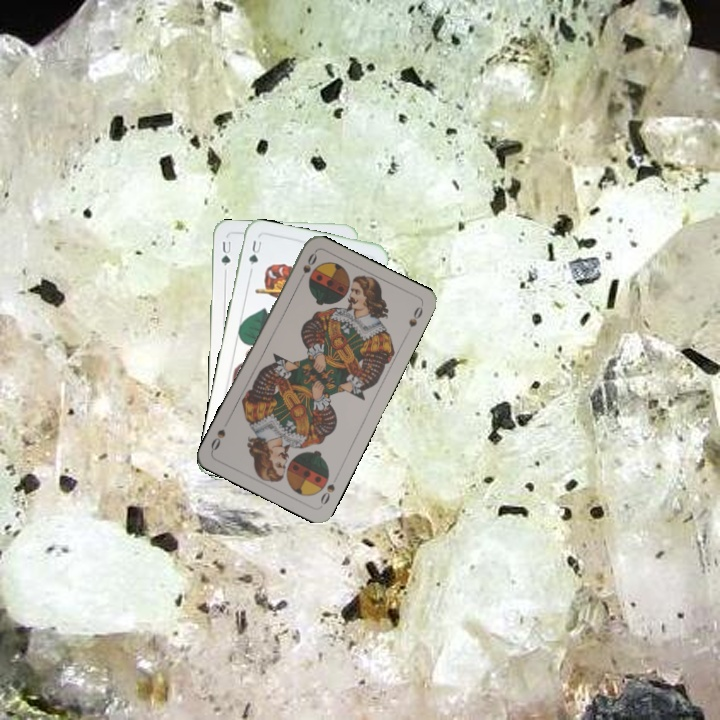GU: (245, 236, 264, 274), (217, 237, 233, 268)
SO: (294, 249, 320, 286), (316, 471, 341, 508)
